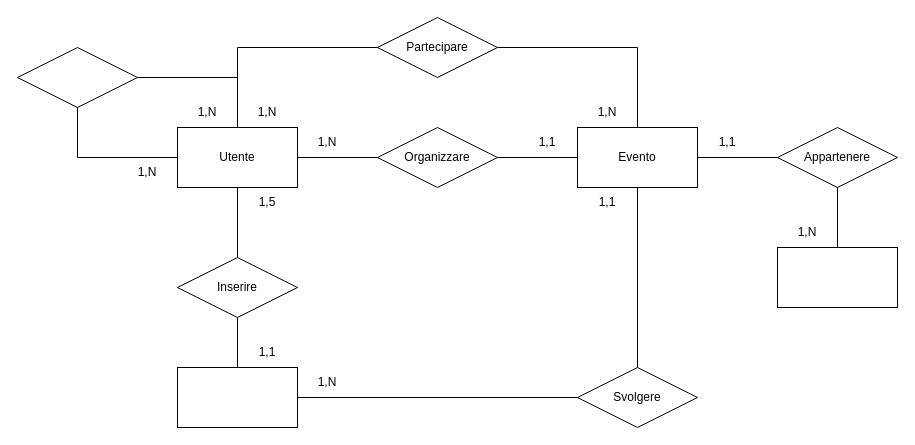
Image size: 915x445. Some labels were removed from this diagram. Each missing label, with the centre of its shape:
Categoria: the point at 837,277
Indirizzo: the point at 237,397
Seguire: the point at 77,77
